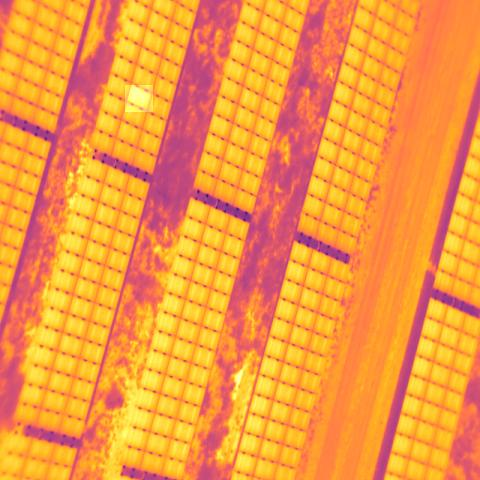fault: (125, 85, 153, 112)
